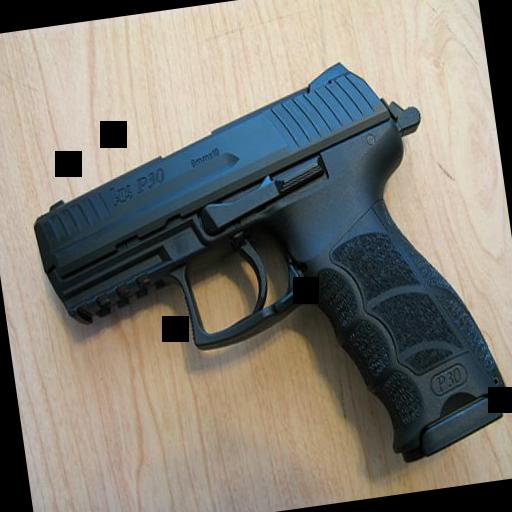Handgun: (11, 44, 512, 505)
